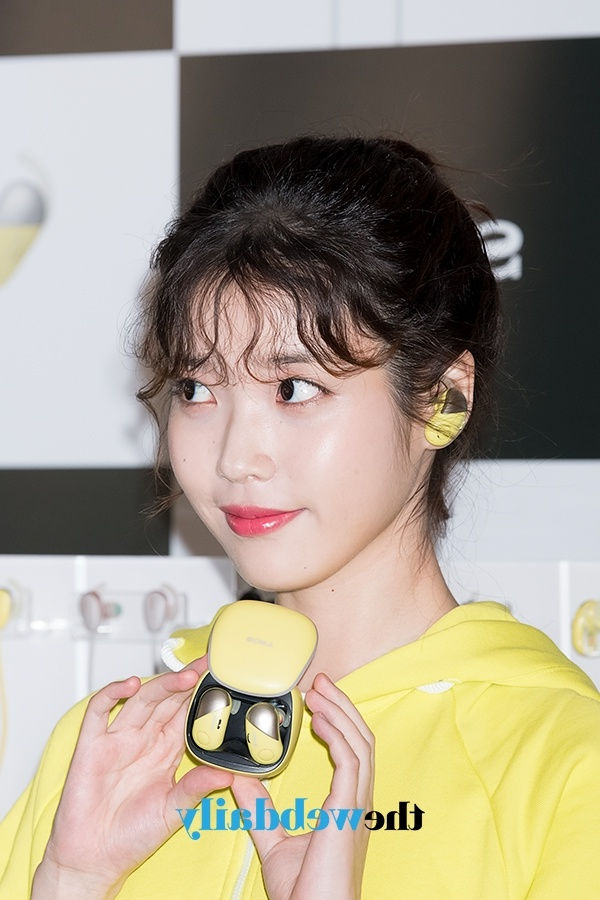earphone: (418, 349, 475, 449)
